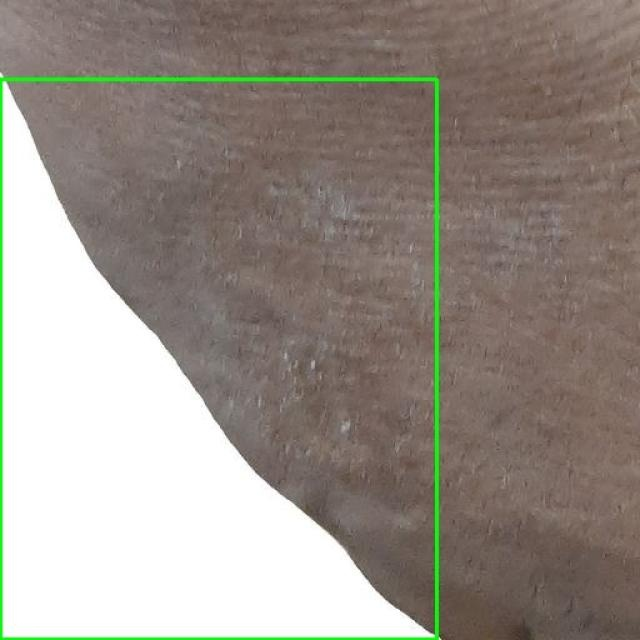Tinea Corporis: (0, 79, 436, 639)
